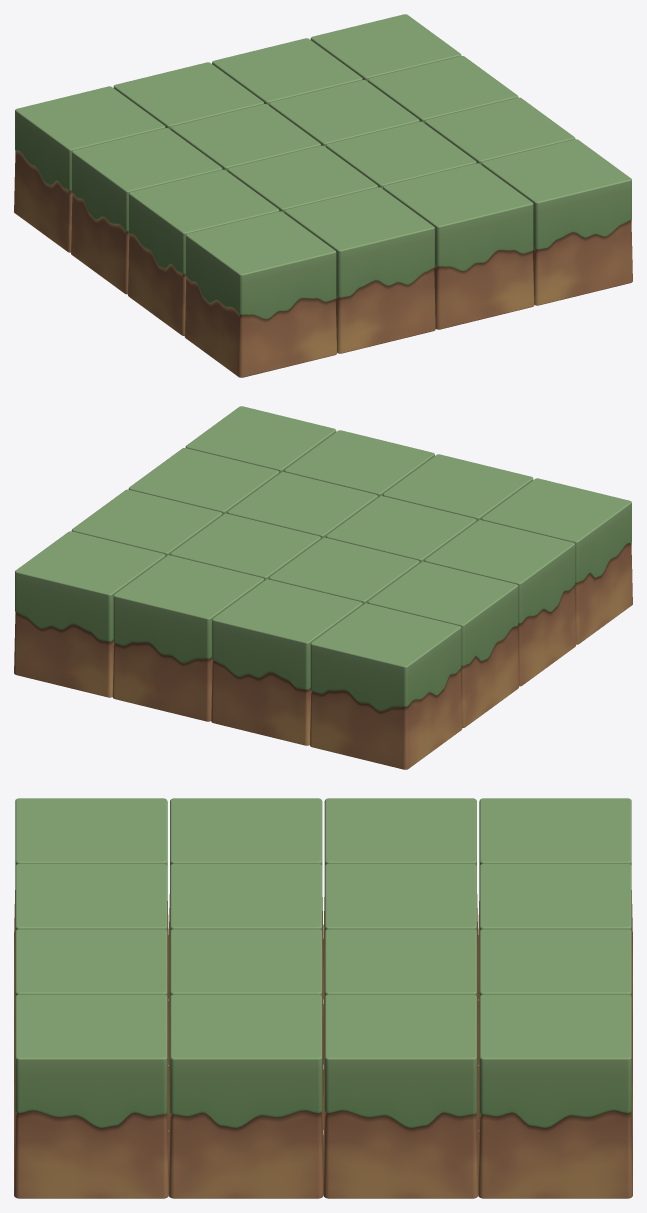
File: ground.glb
The picture shows the model from 3 angles, top to bottom: view 1: azimuth 30°, elevation 25°; view 2: azimuth 150°, elevation 25°; view 3: azimuth 270°, elevation 25°; orthographic projection. The views are drawn at different scales.
Parts seen in each view (by area): view 1: Ground · 01-01, Ground · 01-03, Ground · 01-02, Ground · 01-04, Ground · 03-01, Ground · 02-01, Ground · 04-01, Ground · 02-02, Ground · 02-04, Ground · 04-04, Ground · 02-03, Ground · 03-02 (+4 smaller); view 2: Ground · 04-01, Ground · 04-03, Ground · 04-02, Ground · 04-04, Ground · 02-01, Ground · 03-01, Ground · 01-01, Ground · 03-02, Ground · 01-04, Ground · 03-04, Ground · 03-03, Ground · 01-02 (+4 smaller); view 3: Ground · 02-04, Ground · 03-04, Ground · 01-04, Ground · 04-04, Ground · 02-02, Ground · 01-02, Ground · 03-02, Ground · 04-02, Ground · 01-01, Ground · 02-01, Ground · 02-03, Ground · 04-01 (+4 smaller).
Boxes of the visible parts, <box> form: Ground · 01-01: <box>184,211,337,377</box>; Ground · 01-03: <box>383,163,534,329</box>; Ground · 01-02: <box>284,187,435,353</box>; Ground · 01-04: <box>481,139,632,305</box>; Ground · 03-01: <box>71,128,222,294</box>; Ground · 02-01: <box>128,169,279,335</box>; Ground · 04-01: <box>14,86,165,252</box>; Ground · 02-02: <box>227,145,377,212</box>; Ground · 02-04: <box>424,97,575,164</box>; Ground · 04-04: <box>310,14,461,81</box>; Ground · 02-03: <box>326,121,476,188</box>; Ground · 03-02: <box>170,104,320,170</box>; Ground · 04-01: <box>309,603,462,769</box>; Ground · 04-03: <box>112,555,263,721</box>; Ground · 04-02: <box>211,579,362,745</box>; Ground · 04-04: <box>14,531,165,697</box>; Ground · 02-01: <box>424,520,575,686</box>; Ground · 03-01: <box>367,561,518,727</box>; Ground · 01-01: <box>481,478,632,644</box>; Ground · 03-02: <box>269,537,419,604</box>; Ground · 01-04: <box>185,406,336,473</box>; Ground · 03-04: <box>71,489,222,556</box>; Ground · 03-03: <box>170,513,320,580</box>; Ground · 01-02: <box>383,454,533,521</box>; Ground · 02-04: <box>168,994,323,1198</box>; Ground · 03-04: <box>323,994,478,1198</box>; Ground · 01-04: <box>14,994,168,1198</box>; Ground · 04-04: <box>478,994,632,1198</box>; Ground · 02-02: <box>168,863,323,1064</box>; Ground · 01-02: <box>14,863,168,1061</box>; Ground · 03-02: <box>323,863,478,1064</box>; Ground · 04-02: <box>478,863,632,1061</box>; Ground · 01-01: <box>14,798,168,997</box>; Ground · 02-01: <box>168,798,323,998</box>; Ground · 02-03: <box>168,929,323,1129</box>; Ground · 04-01: <box>478,798,632,997</box>.
Size of the model in its own units: 16 by 4 by 16.
